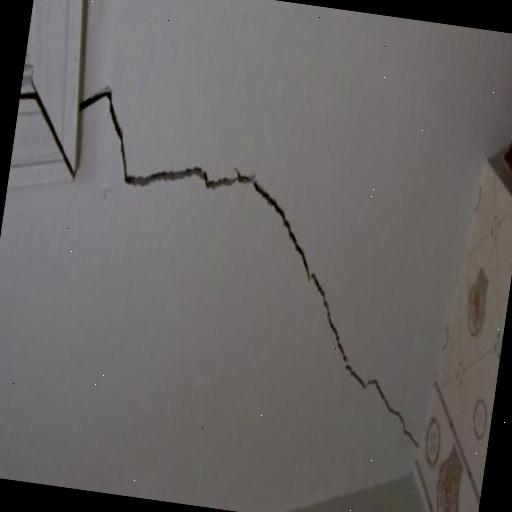spalling: (80, 70, 422, 454)
